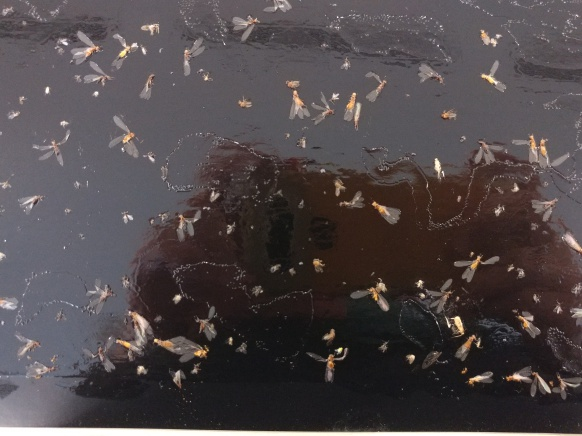flying termite: (26, 126, 75, 170), (101, 112, 142, 162), (453, 247, 501, 283), (304, 346, 354, 380), (537, 133, 571, 178), (82, 330, 116, 375), (154, 334, 201, 360), (469, 138, 506, 171), (478, 58, 508, 98), (512, 129, 539, 171), (110, 28, 135, 69), (173, 211, 205, 243), (362, 67, 389, 103), (180, 36, 203, 78), (502, 360, 533, 390), (371, 198, 405, 225), (136, 70, 160, 105), (284, 90, 309, 122), (467, 367, 494, 389), (342, 88, 354, 125)
